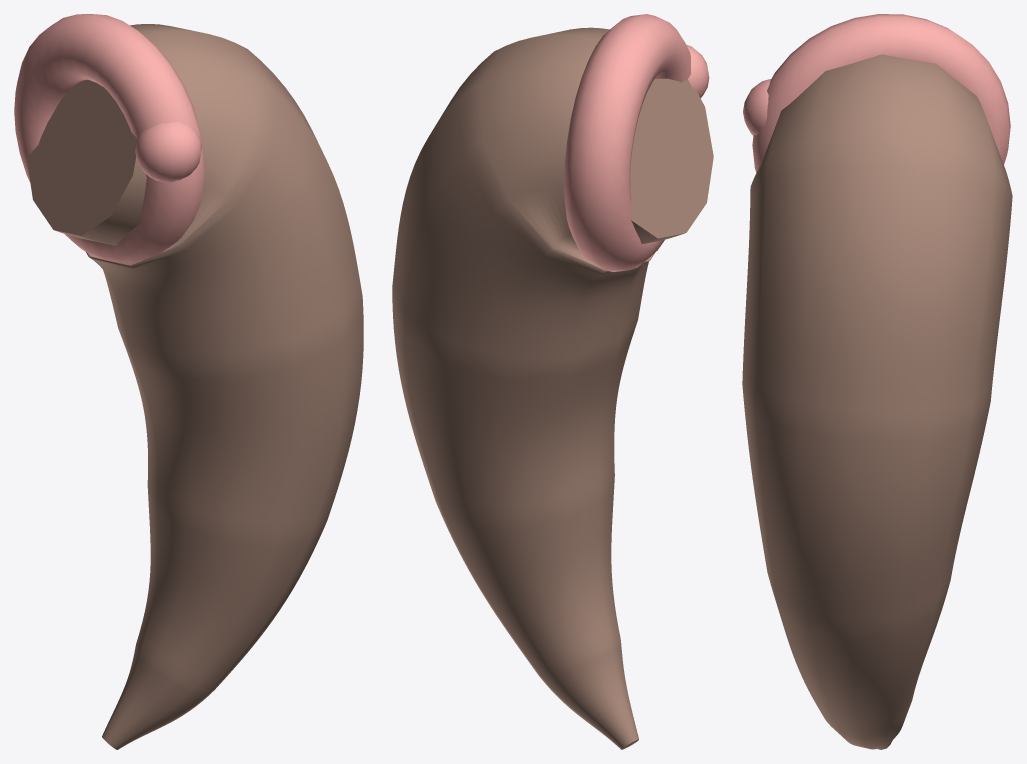
The model's file is hair_ponytail.fbx.
3 renders of one model, left to right at view 1: azimuth 30°, elevation 25°; view 2: azimuth 150°, elevation 25°; view 3: azimuth 270°, elevation 25°, orthographic.
Visible parts, largest first — view 1: Ponytail_Tail, Ponytail_Tie, Ponytail_TieBead; view 2: Ponytail_Tail, Ponytail_Tie, Ponytail_TieBead; view 3: Ponytail_Tail, Ponytail_Tie, Ponytail_TieBead.
Part boxes in pixels (x1=…): Ponytail_Tail: x1=26, y1=24, x2=363, y2=749; Ponytail_Tie: x1=14, y1=14, x2=204, y2=263; Ponytail_TieBead: x1=135, y1=122, x2=201, y2=182; Ponytail_Tail: x1=392, y1=27, x2=713, y2=749; Ponytail_Tie: x1=564, y1=14, x2=691, y2=272; Ponytail_TieBead: x1=686, y1=44, x2=709, y2=98; Ponytail_Tail: x1=742, y1=54, x2=1012, y2=749; Ponytail_Tie: x1=752, y1=14, x2=1010, y2=172; Ponytail_TieBead: x1=743, y1=79, x2=771, y2=135.
Bounding box in the file's own units: 0.0884 × 0.2149 × 0.0721.
